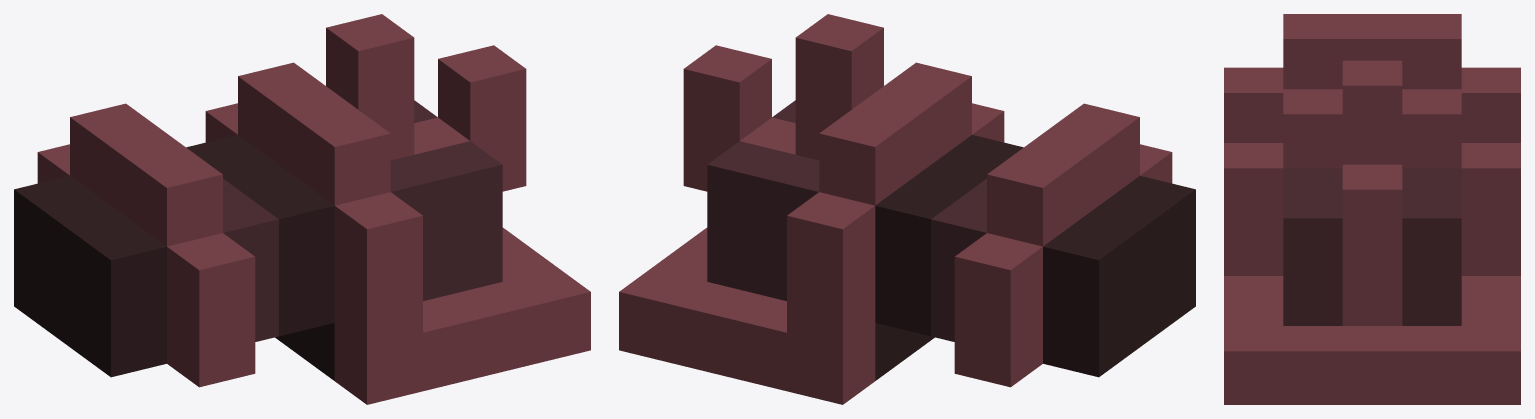
Rendered from RamzaArmUpperR.fbx.
3 views of the same model, side by side, from view 1: azimuth 30°, elevation 25°; view 2: azimuth 150°, elevation 25°; view 3: azimuth 270°, elevation 25° (orthographic). The views are drawn at different scales.
Visible parts, largest first — view 1: RamzaArms_part_1; view 2: RamzaArms_part_1; view 3: RamzaArms_part_1.
Part boxes in pixels (x1=…): RamzaArms_part_1: x1=14, y1=14, x2=590, y2=404; RamzaArms_part_1: x1=619, y1=14, x2=1195, y2=404; RamzaArms_part_1: x1=1224, y1=14, x2=1520, y2=404.
Bounding box in the file's own units: 8 × 5 × 5.
Materials: 1 (1 with a texture image).
